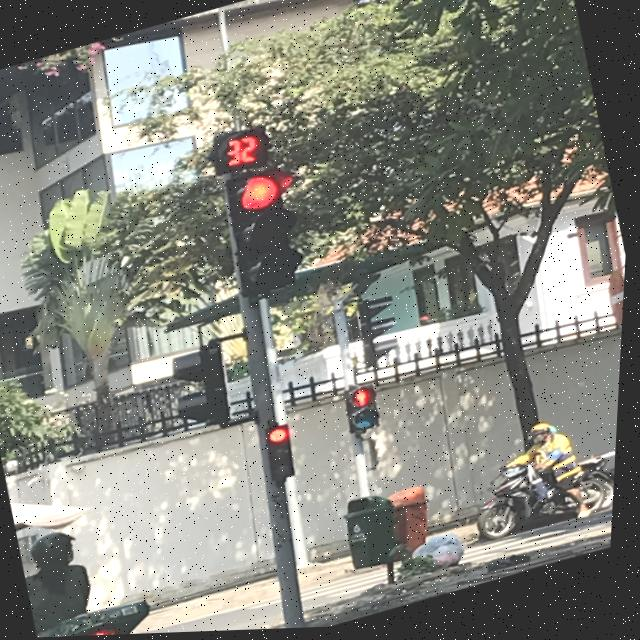Red: (215, 160, 317, 308), (266, 420, 313, 485)
